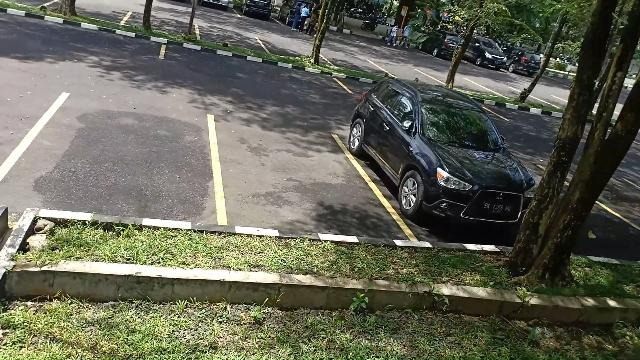empty: (4, 97, 220, 219), (209, 114, 363, 238)
occupied: (344, 109, 538, 245)
